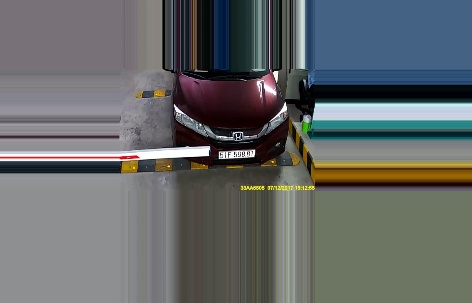plate: (218, 145, 256, 159)
